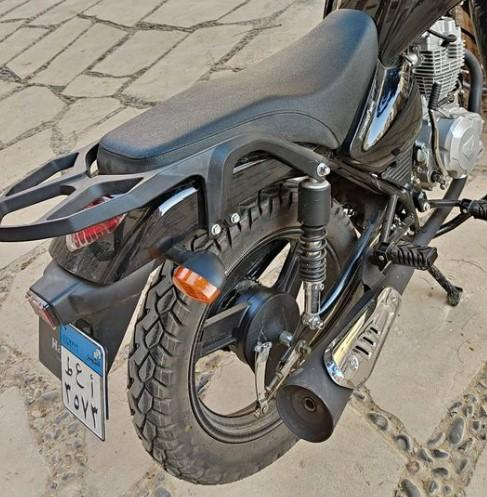License Plate: (59, 321, 108, 427)
